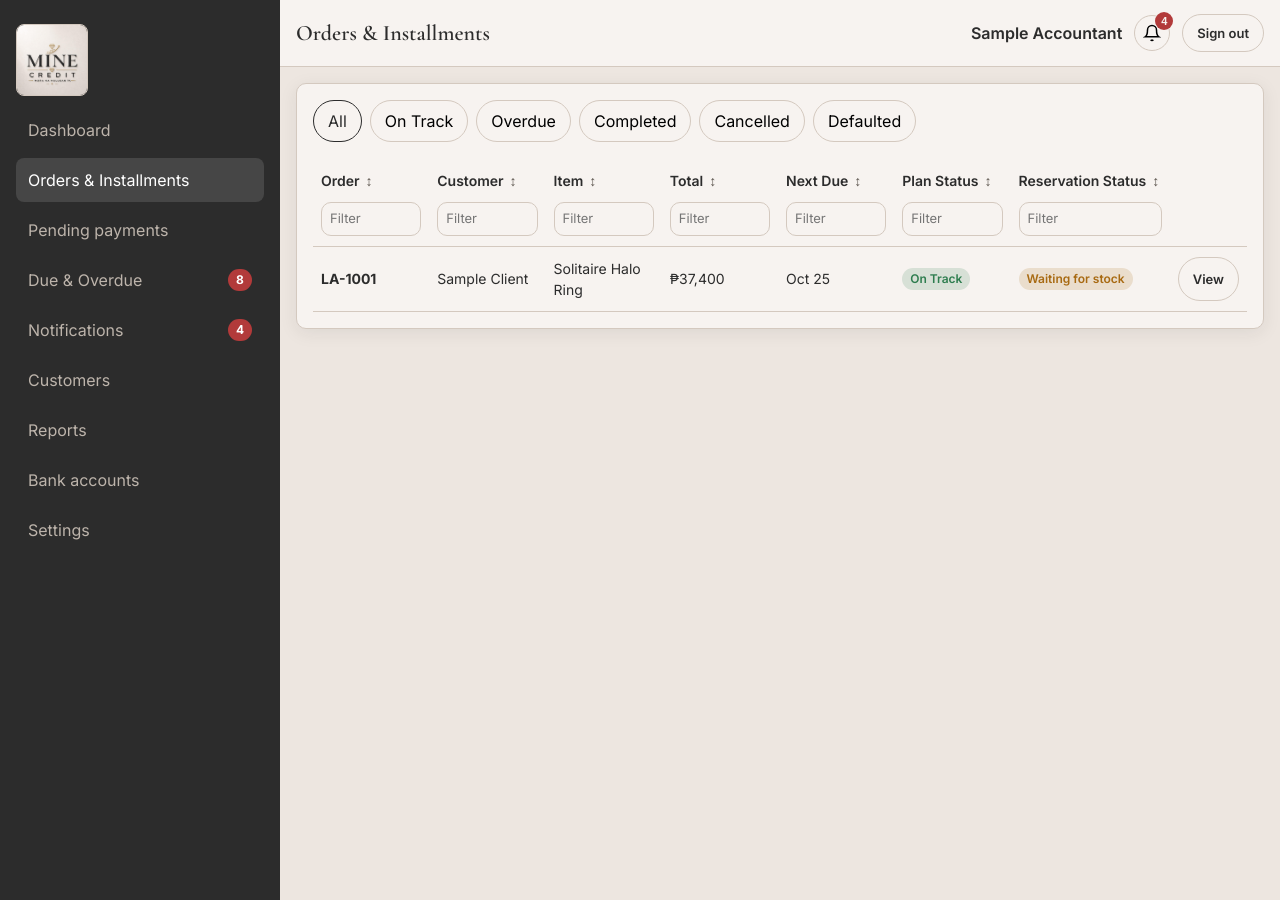
admin orders › hides Retry and Cancel reservation for accounting
Click the button "View" at (1208,278), box [1178,256,1239,300]
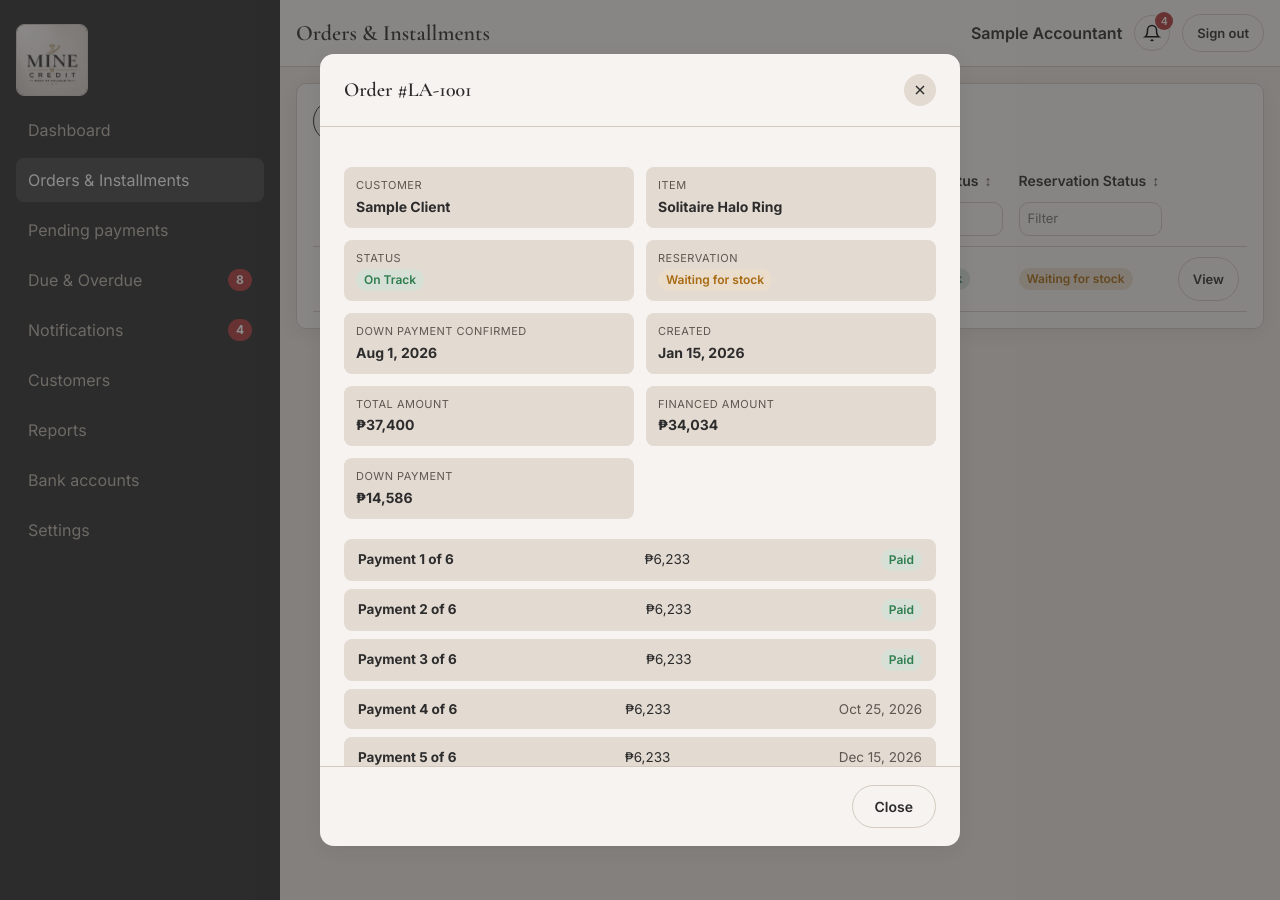
Now the number of buttons named "Close" is 2, box [904,74,936,106]; [852,785,936,828]
